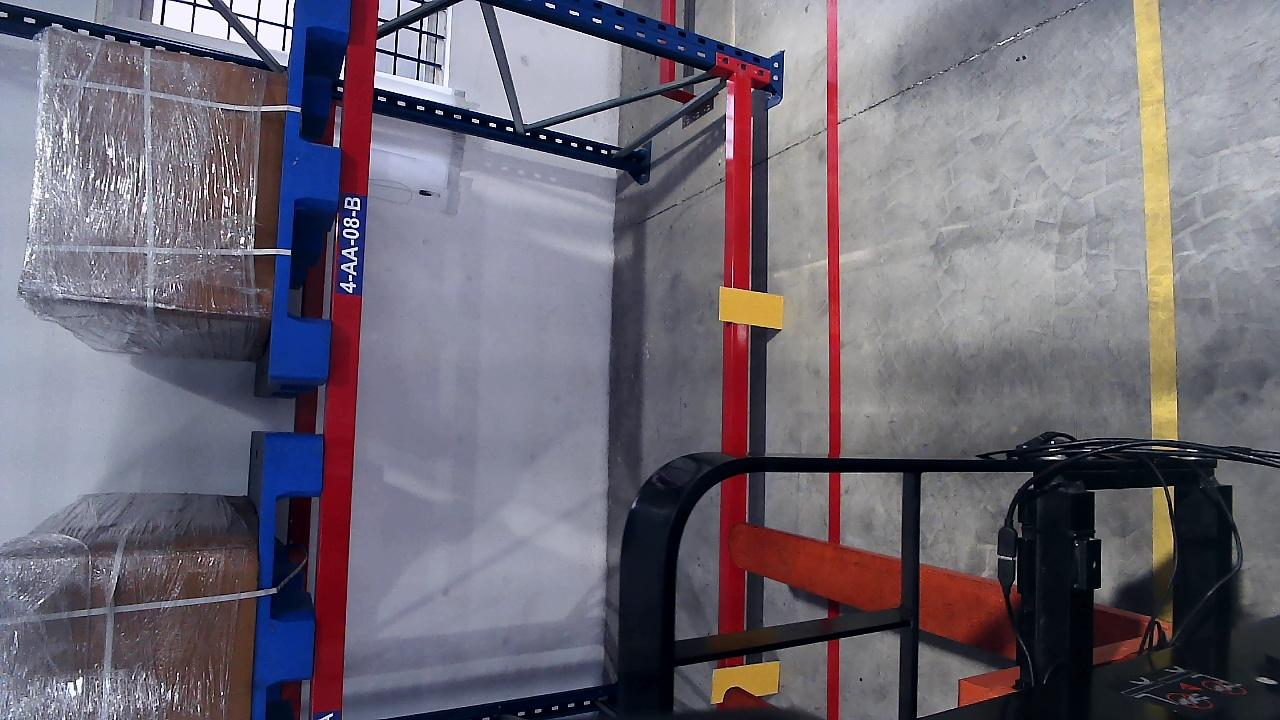h_rack: (342, 0, 377, 685), (727, 71, 758, 452)
orange_strip: (719, 287, 784, 329), (710, 660, 780, 698)
red_line: (822, 6, 844, 421)
small_pallet: (272, 3, 352, 381), (254, 440, 325, 720)
yellow_line: (1133, 0, 1180, 438)
